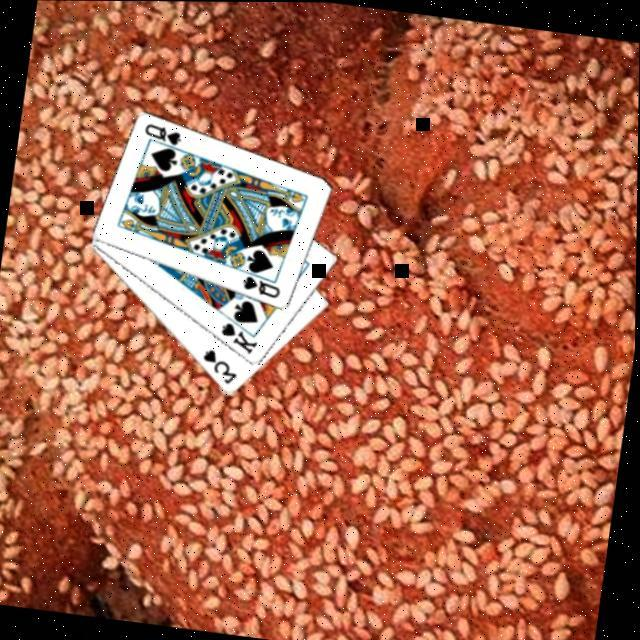3S: (197, 342, 242, 386)
KS: (215, 316, 262, 355)
QS: (237, 270, 284, 298), (140, 117, 185, 146)
